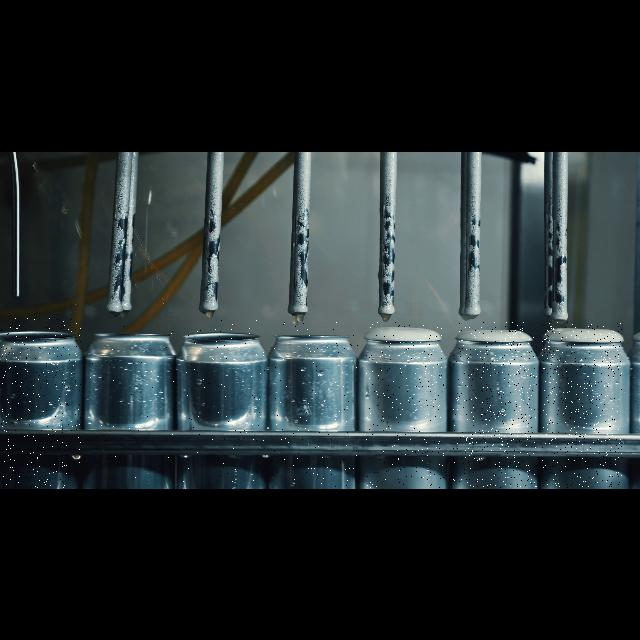empty: (273, 322, 359, 488), (182, 320, 266, 488), (88, 326, 174, 488), (1, 318, 81, 488)
full: (453, 322, 537, 488), (542, 322, 622, 488), (366, 322, 444, 488)
